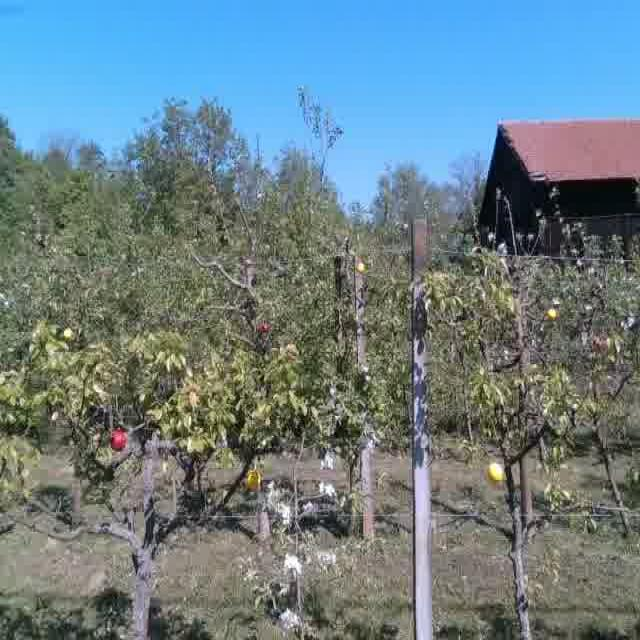red: (107, 426, 131, 452), (257, 320, 271, 337)
yellow: (243, 464, 267, 492), (484, 461, 506, 486), (546, 301, 559, 322)
